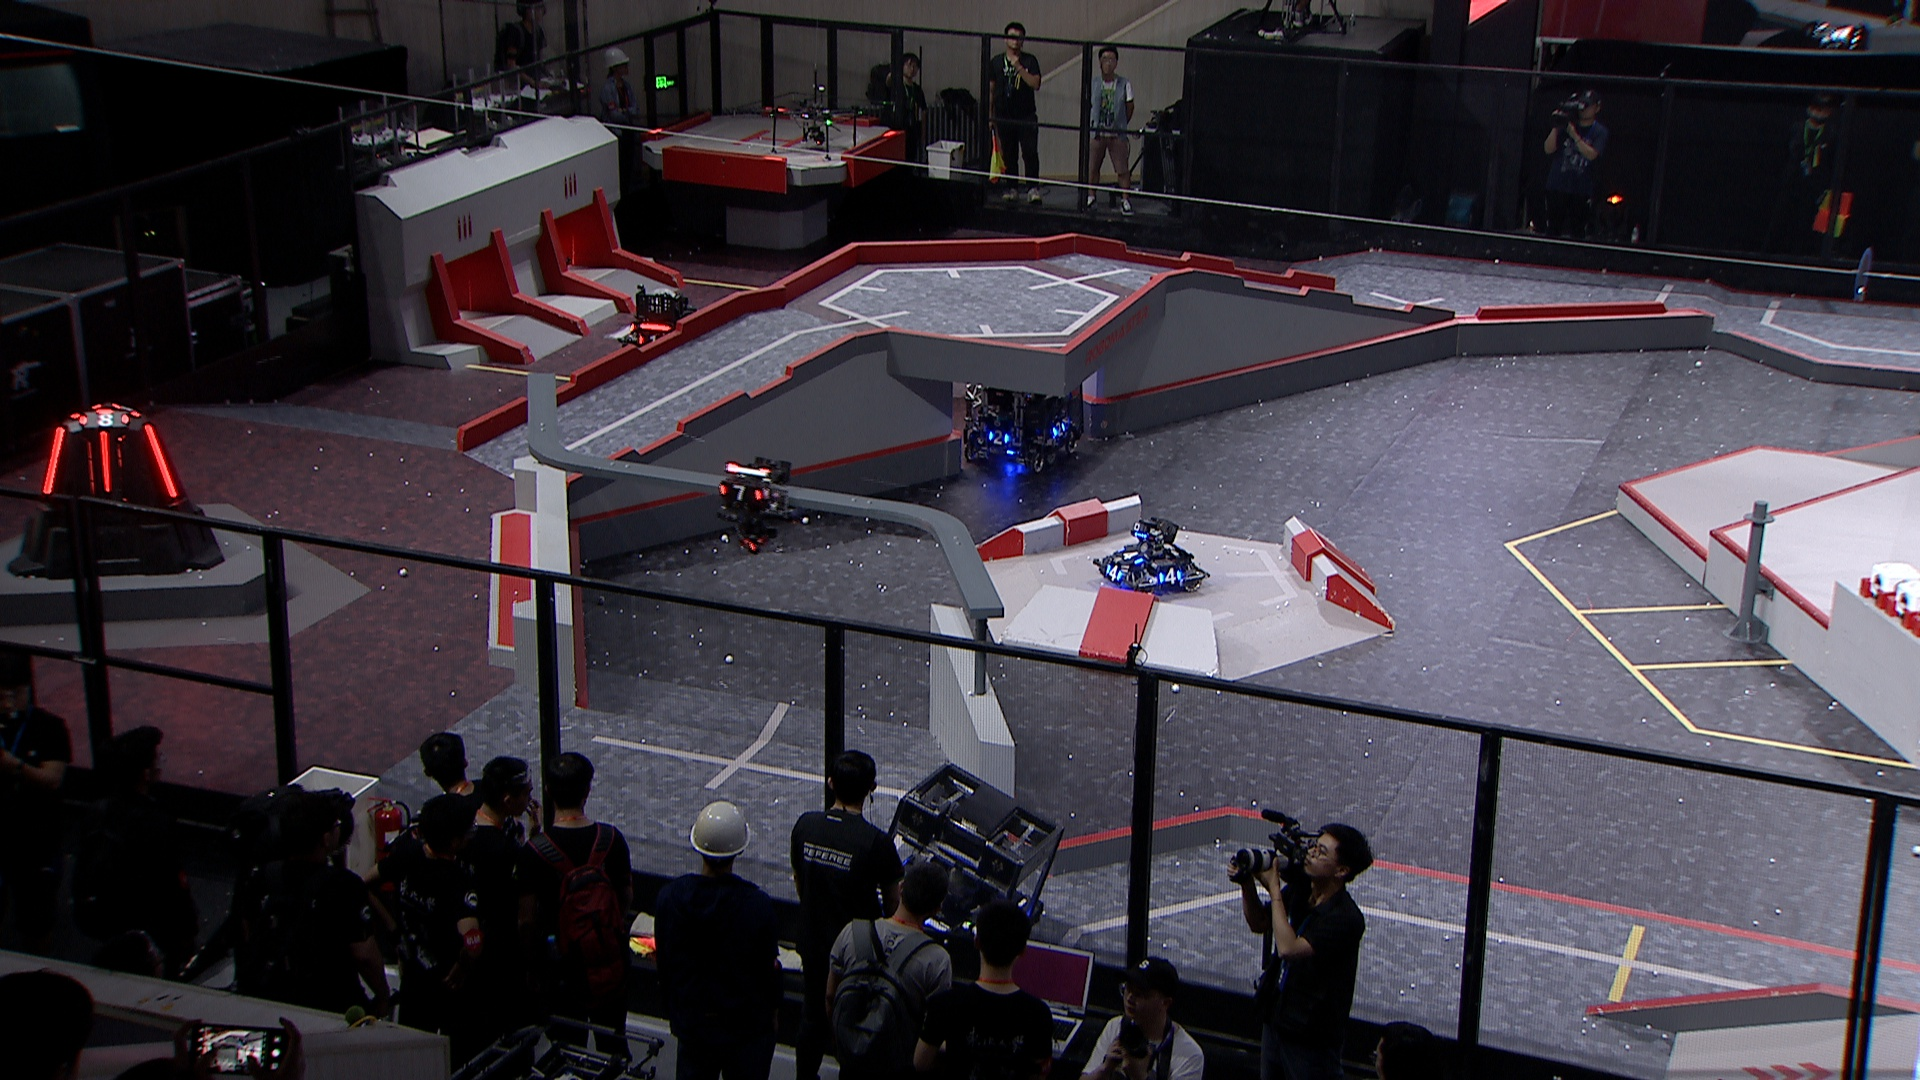armor: (144, 419, 179, 502), (44, 423, 67, 496), (721, 484, 764, 505), (100, 429, 113, 491), (74, 409, 125, 425), (1102, 560, 1124, 582), (1158, 567, 1182, 584), (1121, 546, 1141, 562), (986, 431, 1011, 443), (1054, 419, 1067, 438), (637, 332, 657, 344)
base: (5, 398, 223, 582)
car: (869, 764, 1064, 959), (957, 353, 1091, 475), (1092, 513, 1207, 591), (621, 285, 704, 373)
watcher: (716, 454, 798, 559)
